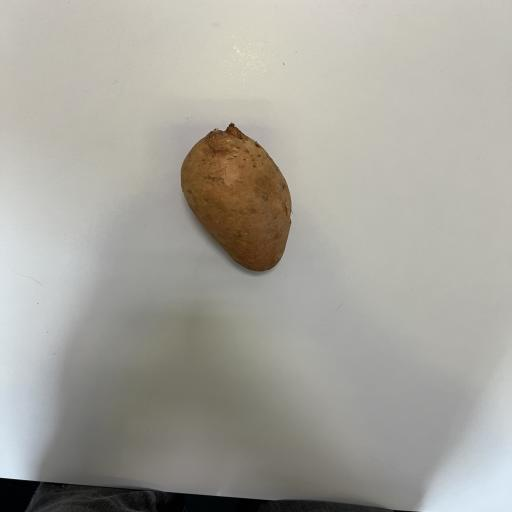sweet_potato: (154, 116, 346, 284)
